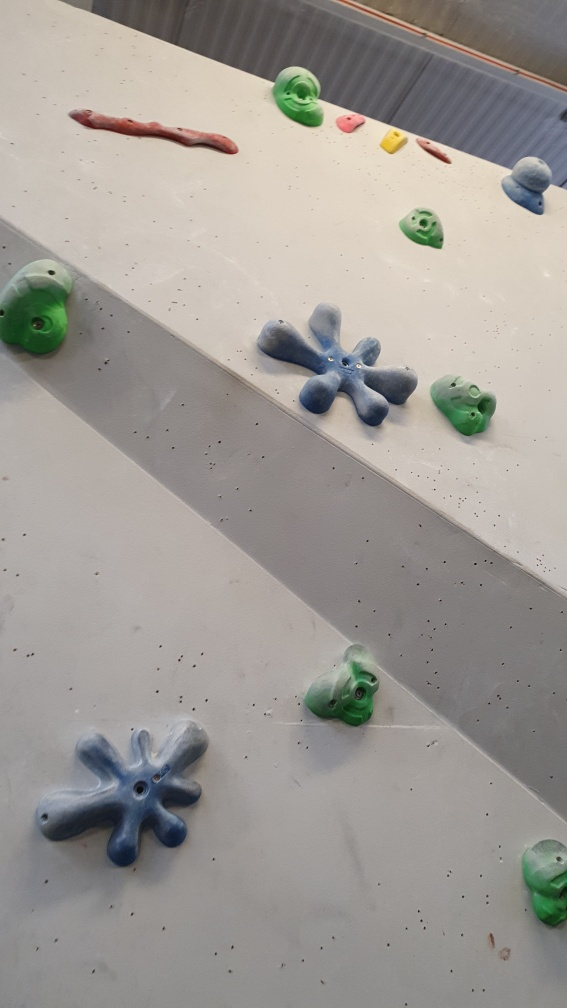Crimp: (419, 134, 454, 169), (332, 105, 368, 138)
Jug: (1, 257, 86, 362), (306, 644, 384, 733), (425, 369, 502, 442), (274, 62, 325, 128), (399, 202, 447, 253)
Octopus Pinch: (35, 714, 222, 877), (260, 302, 425, 432)
Sloper: (502, 152, 556, 218)
